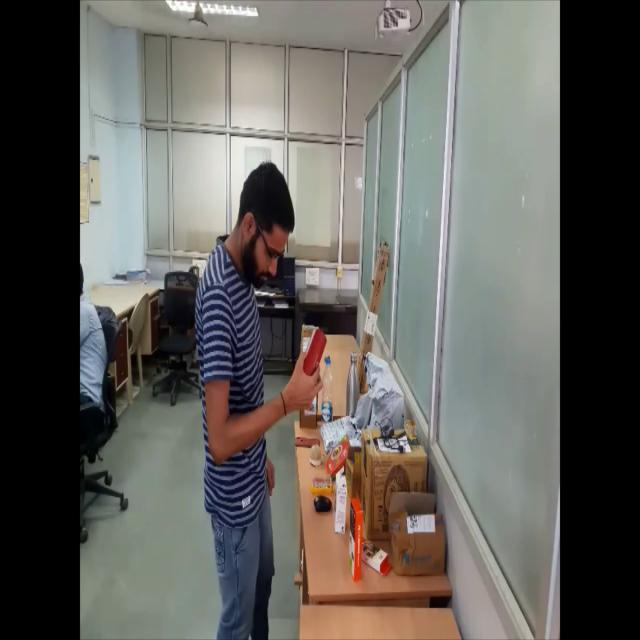normal: (190, 146, 328, 639)
